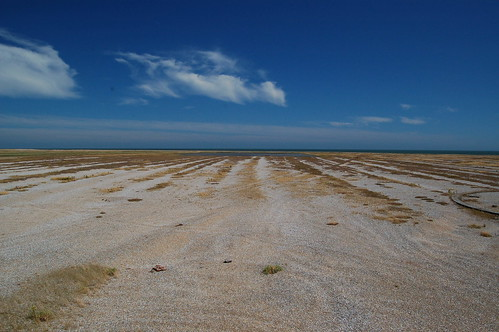sky: (2, 1, 499, 149)
